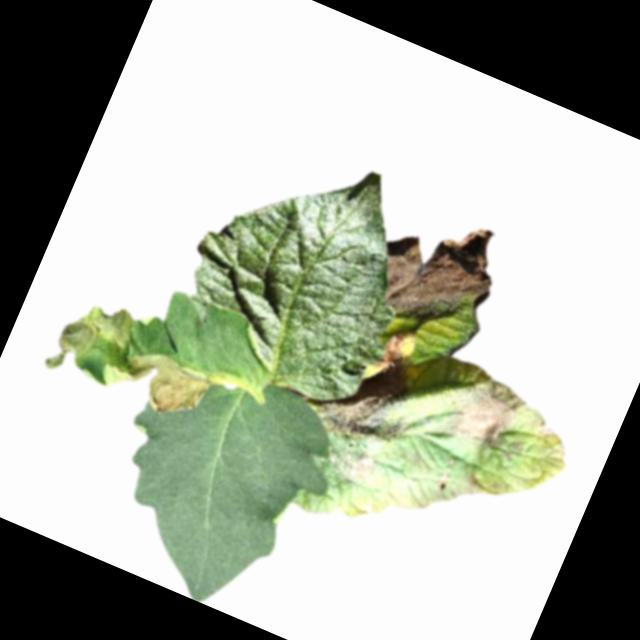Late_blight: (358, 193, 510, 346), (311, 344, 422, 453), (39, 285, 142, 393), (434, 364, 530, 461), (112, 341, 213, 426), (314, 428, 389, 494), (375, 321, 419, 371), (524, 408, 559, 445), (354, 495, 382, 520)
